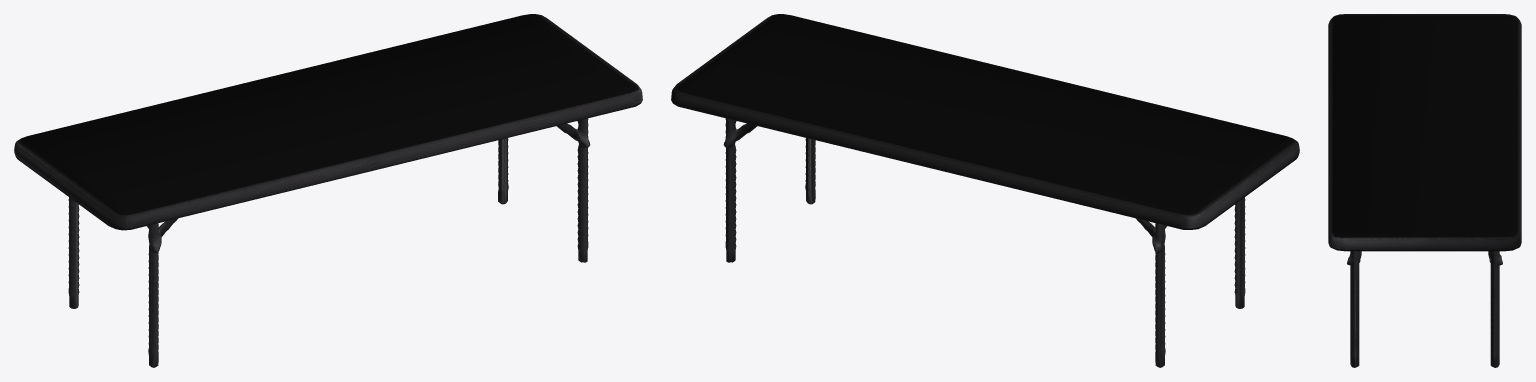
Rendered from Plastic_Table_Rec_pLASTIC_30inchestall_0310231728_texture.glb.
3 renders of one model, left to right at view 1: azimuth 30°, elevation 25°; view 2: azimuth 150°, elevation 25°; view 3: azimuth 270°, elevation 25°, orthographic. The views are drawn at different scales.
Visible parts, largest first — view 1: Mesh_0.001; view 2: Mesh_0.001; view 3: Mesh_0.001.
Boxes of the visible parts, x1,y1,x2,y2 form: Mesh_0.001: [14, 14, 642, 367]; Mesh_0.001: [671, 14, 1299, 367]; Mesh_0.001: [1328, 14, 1521, 367].
Bounding box in the file's own units: 2.49 × 0.762 × 0.895.
1 material, 1 textured.
